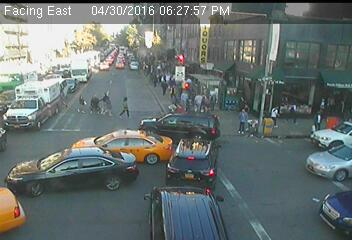pos: (232, 102, 258, 138), (267, 102, 287, 128), (100, 88, 119, 114), (73, 91, 92, 117), (115, 95, 133, 119), (86, 92, 104, 116), (311, 109, 329, 133), (288, 105, 304, 127), (159, 76, 175, 98), (166, 85, 178, 102), (148, 73, 160, 89)
